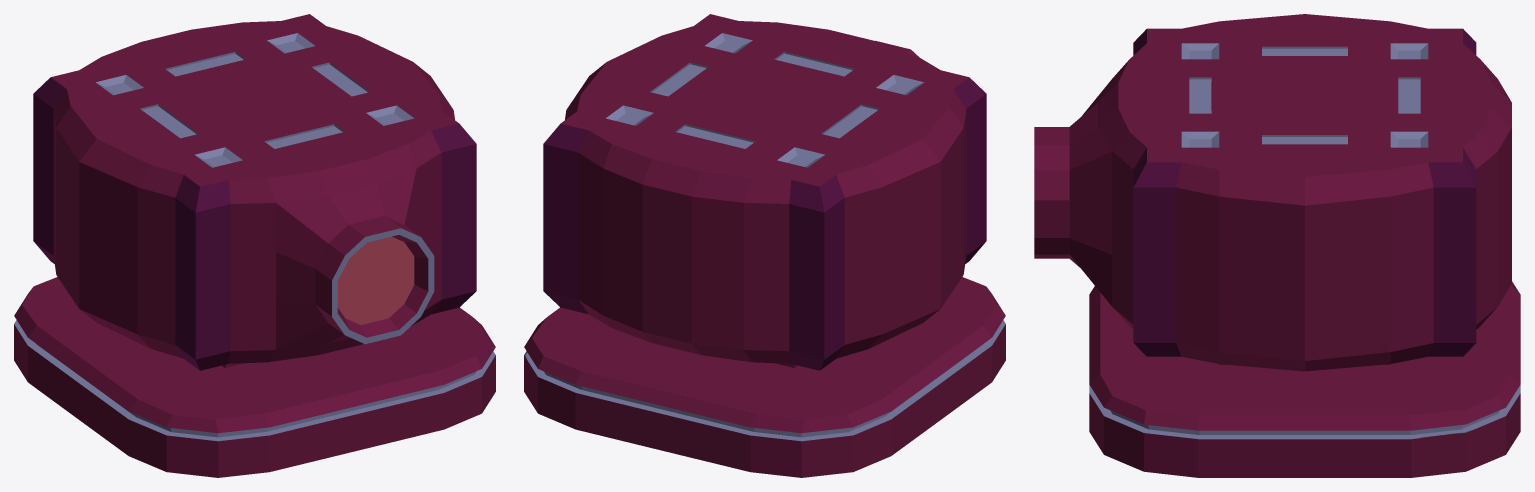
File: Torreta.fbx
The picture shows the model from 3 angles, left to right: view 1: azimuth 30°, elevation 25°; view 2: azimuth 150°, elevation 25°; view 3: azimuth 270°, elevation 25°; orthographic projection. The views are drawn at different scales.
Visible parts, largest first — view 1: CabezaT, CuerpoT; view 2: CabezaT, CuerpoT; view 3: CabezaT, CuerpoT.
Part boxes in pixels (bbox=[...]): CabezaT: bbox=[33, 14, 476, 370]; CuerpoT: bbox=[14, 277, 495, 477]; CabezaT: bbox=[543, 14, 986, 370]; CuerpoT: bbox=[524, 277, 1005, 477]; CabezaT: bbox=[1034, 14, 1511, 371]; CuerpoT: bbox=[1089, 281, 1520, 477].
Bounding box in the file's own units: 201 × 150 × 227.
